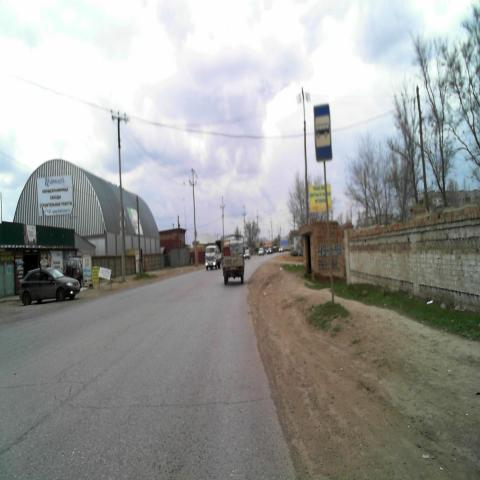5_16: (313, 103, 334, 162)
